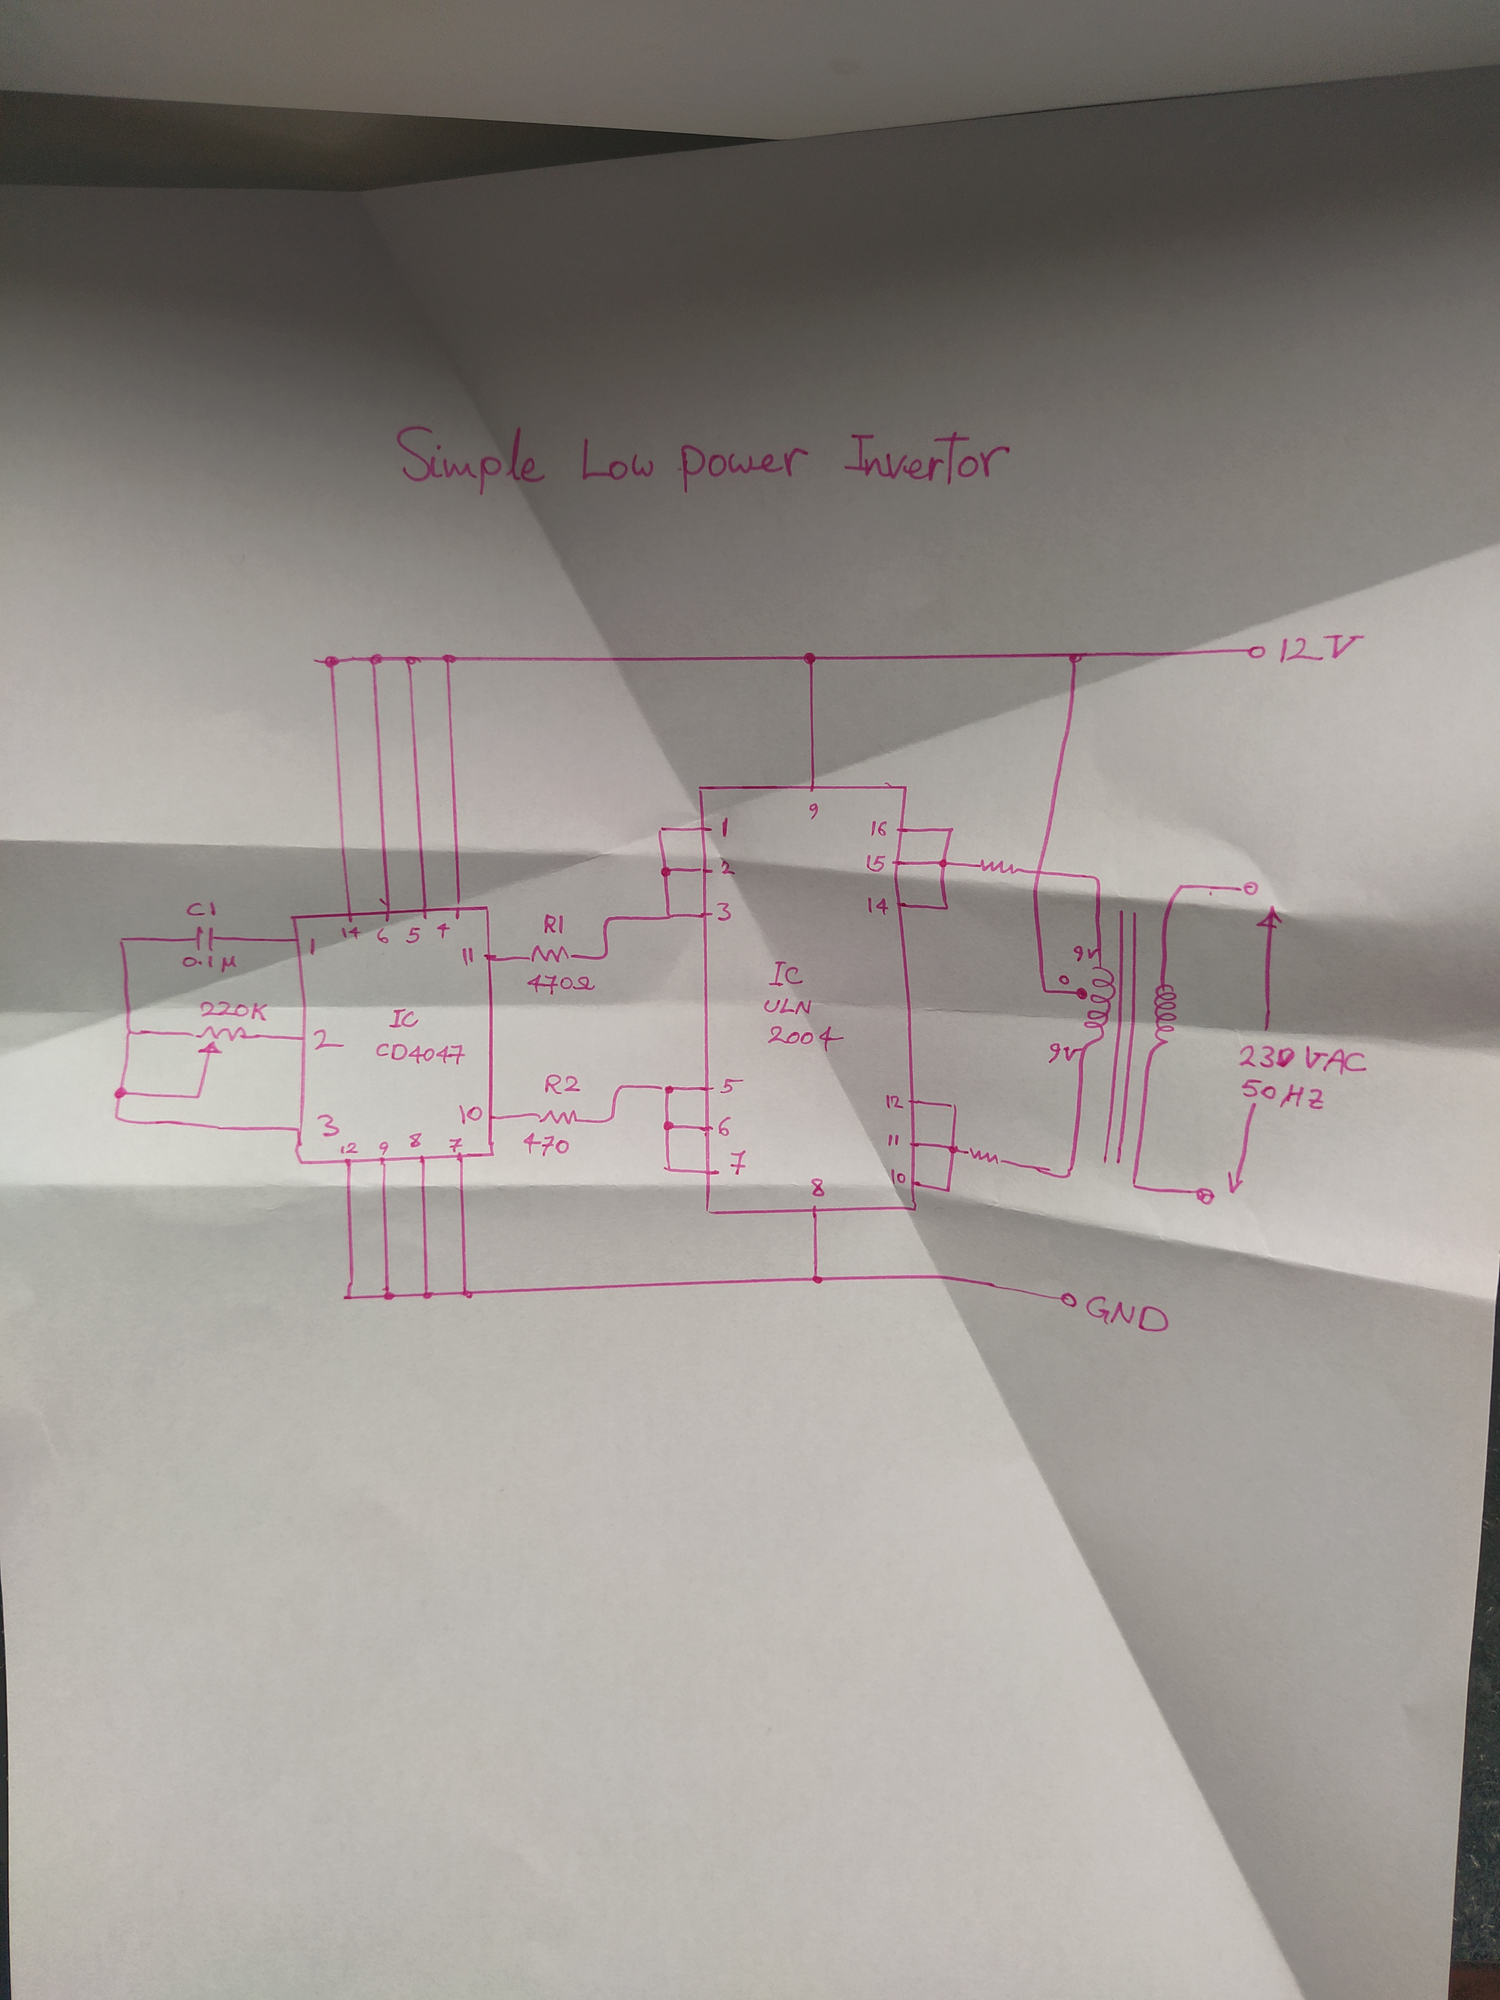capacitor.unpolarized: (192, 924, 219, 953)
crossover: (1030, 868, 1045, 879)
integrated_circuit: (693, 780, 922, 1217), (288, 901, 503, 1169)
junction: (312, 654, 342, 671), (800, 650, 819, 666), (403, 654, 422, 668), (440, 652, 459, 666), (369, 652, 384, 668), (381, 1287, 397, 1302), (112, 1085, 129, 1099), (1067, 650, 1082, 665), (659, 1083, 676, 1096), (659, 865, 673, 879), (945, 1143, 961, 1156), (810, 1274, 826, 1287), (662, 1120, 676, 1132), (1062, 1169, 1076, 1181), (421, 1290, 436, 1301), (459, 1290, 474, 1301), (340, 1291, 356, 1302), (936, 858, 952, 869), (611, 1082, 624, 1094), (603, 1113, 618, 1124), (1090, 872, 1105, 883), (600, 913, 611, 928), (1175, 879, 1186, 891), (663, 910, 674, 923), (599, 951, 610, 964), (124, 1027, 136, 1039), (942, 1184, 953, 1195), (1130, 1180, 1141, 1191), (1038, 984, 1049, 995), (655, 824, 666, 835), (110, 1113, 121, 1124), (192, 1091, 203, 1102), (117, 935, 128, 946), (941, 901, 952, 912), (662, 1164, 674, 1173), (944, 827, 956, 836), (949, 1102, 958, 1110)
resistor: (526, 943, 575, 965), (974, 857, 1023, 876), (533, 1109, 580, 1128), (964, 1146, 1005, 1167)
resistor.adjustable: (191, 1025, 251, 1057)
terminal: (1191, 1184, 1216, 1208), (1057, 1290, 1079, 1310), (1238, 880, 1262, 898), (1245, 644, 1267, 660)
text: (392, 420, 1013, 501), (1237, 1043, 1369, 1077), (1084, 1291, 1172, 1335), (1278, 630, 1366, 666), (1240, 1077, 1327, 1112), (375, 1039, 466, 1068), (767, 1024, 846, 1054), (525, 972, 599, 997), (199, 998, 269, 1024), (522, 1131, 572, 1159), (181, 953, 238, 975), (763, 995, 813, 1017), (767, 959, 805, 987), (542, 1072, 585, 1098), (1045, 1041, 1082, 1066), (310, 1027, 347, 1052), (388, 1006, 421, 1030), (184, 899, 221, 920), (540, 910, 567, 937), (314, 1112, 340, 1139), (726, 1148, 748, 1176), (455, 1102, 484, 1124), (865, 894, 890, 917), (1071, 943, 1098, 964), (718, 1076, 745, 1096), (863, 852, 887, 874), (718, 857, 741, 879), (868, 817, 889, 839), (808, 1176, 829, 1198), (715, 1113, 733, 1139), (714, 901, 733, 923), (339, 924, 362, 942), (884, 1091, 904, 1110), (889, 1167, 908, 1187), (403, 924, 422, 945), (435, 920, 452, 942), (460, 945, 477, 967), (407, 1131, 425, 1150), (718, 814, 733, 839), (446, 1135, 463, 1154), (375, 926, 391, 945), (807, 802, 821, 822), (339, 1140, 359, 1154), (886, 1131, 901, 1148), (377, 1139, 391, 1156), (307, 935, 318, 957), (1057, 972, 1071, 987)
transformer: (1070, 907, 1180, 1165)
